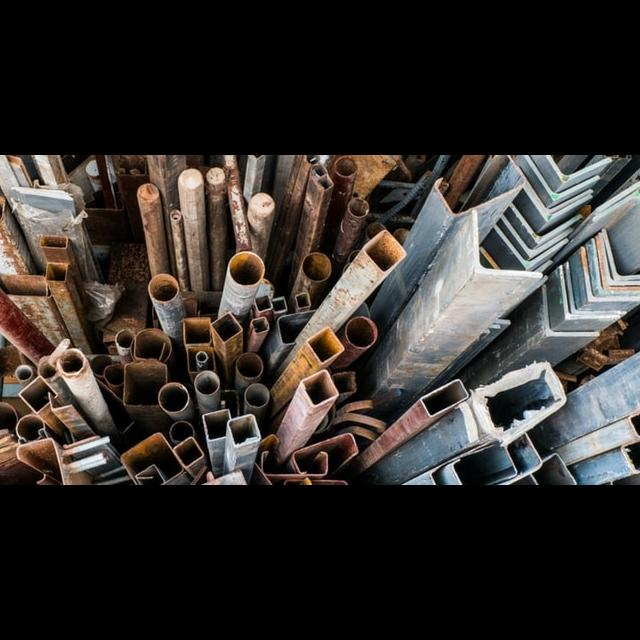metal: (379, 165, 549, 433), (345, 348, 518, 484), (295, 206, 394, 410), (0, 273, 100, 422), (46, 330, 146, 465), (37, 255, 119, 401), (113, 352, 207, 479), (278, 357, 341, 480), (117, 161, 175, 286), (165, 160, 216, 296), (285, 155, 335, 288), (211, 238, 267, 354), (139, 267, 200, 349), (237, 171, 280, 286), (151, 379, 207, 465), (201, 155, 231, 289), (331, 178, 372, 272), (200, 308, 242, 397), (195, 401, 237, 480), (186, 359, 226, 431), (222, 408, 261, 480)
